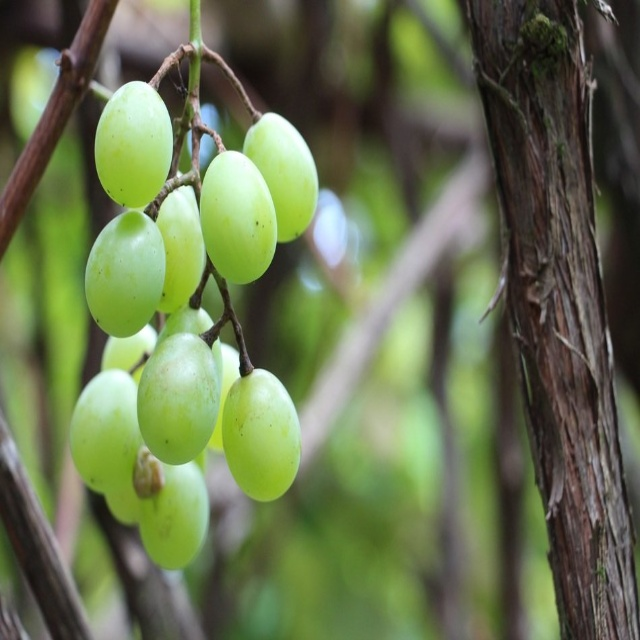grape: (68, 25, 328, 569)
